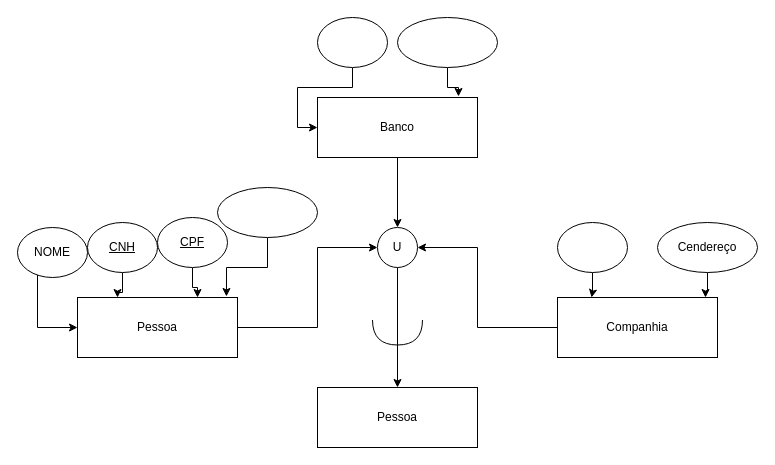
Image size: 775x465. Some labels were removed from this diagram. Each missing label, with the centre of its shape:
"Bendereço" goes at pixel 447 42.
"Bnome" goes at pixel 352 42.
"Cnome" goes at pixel 592 247.
"ENDEREÇO" goes at pixel 267 212.
